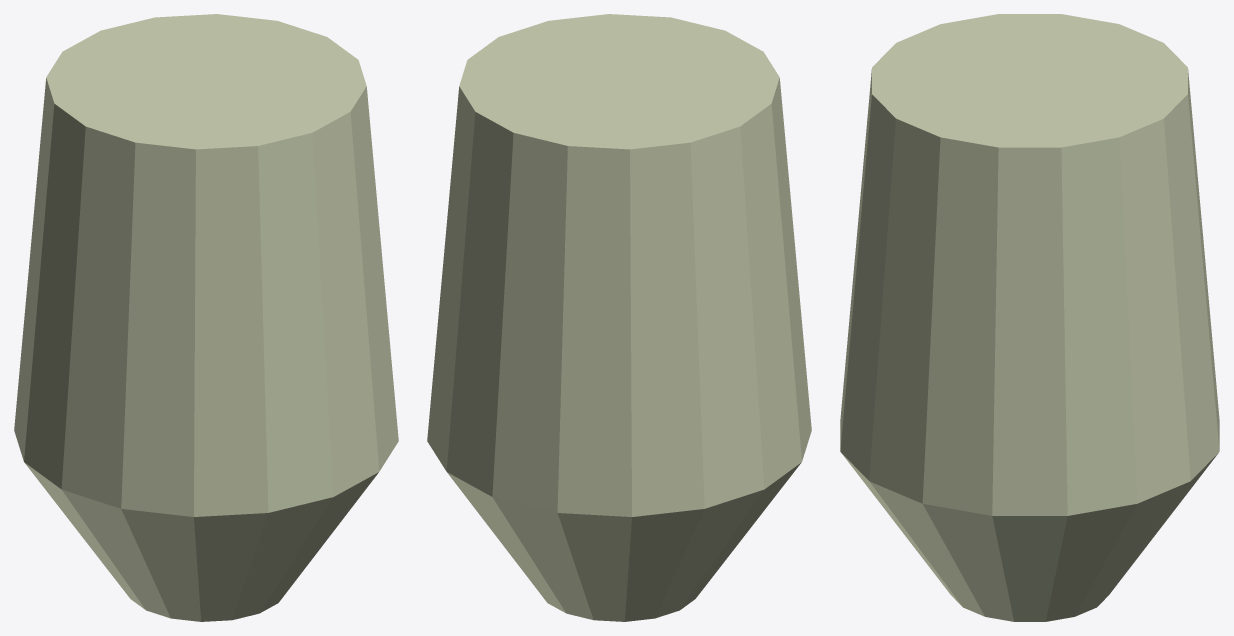
The model's file is libra_lv_fuel_tank_s4_s3_1_collider.obj.
3 renders of one model, left to right at view 1: azimuth 30°, elevation 25°; view 2: azimuth 150°, elevation 25°; view 3: azimuth 270°, elevation 25°, orthographic.
Visible parts, largest first — view 1: collider; view 2: collider; view 3: collider.
Boxes of the visible parts, x1,y1,x2,y2 form: collider: (14,14,398,621); collider: (427,14,811,621); collider: (840,14,1219,621).
Bounding box in the file's own units: 4.5 × 6.65 × 4.5.
